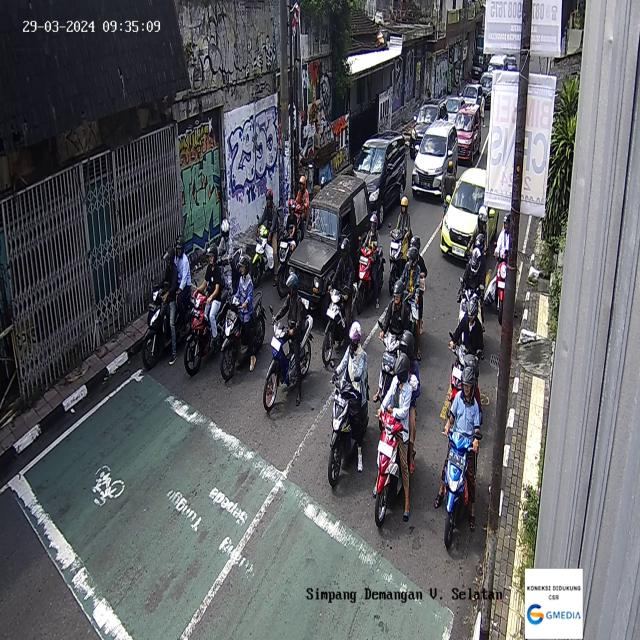car: (287, 174, 371, 312), (440, 166, 499, 262), (350, 131, 407, 226), (411, 119, 458, 202), (410, 98, 448, 158), (455, 102, 481, 164), (459, 84, 483, 106), (445, 96, 465, 122), (478, 72, 492, 106)
motorcycle: (372, 330, 420, 529), (438, 354, 483, 549), (141, 235, 195, 371), (328, 321, 370, 488), (263, 274, 313, 413), (183, 246, 233, 377), (220, 256, 267, 382), (322, 238, 359, 367), (377, 279, 412, 409), (448, 297, 483, 425), (399, 234, 425, 364), (250, 190, 284, 288), (456, 236, 489, 333), (356, 213, 386, 314), (387, 198, 413, 296), (212, 218, 242, 300), (276, 200, 298, 296), (493, 212, 511, 324), (464, 205, 488, 272), (294, 176, 310, 242)
